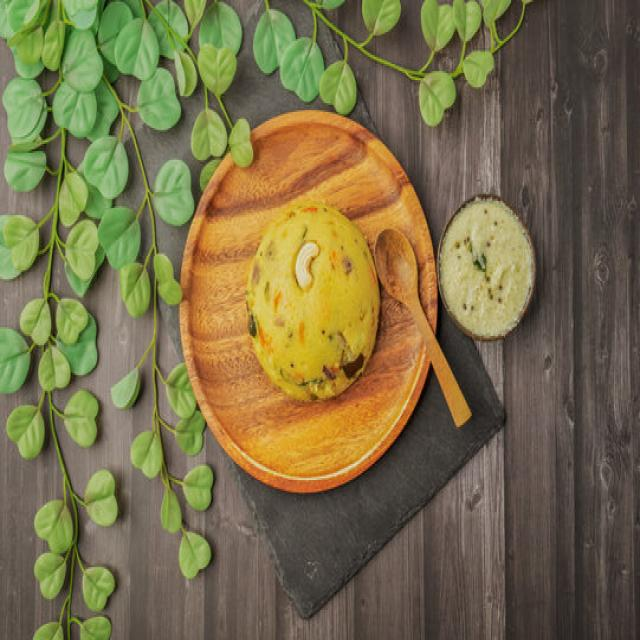UPMA: (246, 199, 380, 396), (246, 210, 379, 391)
